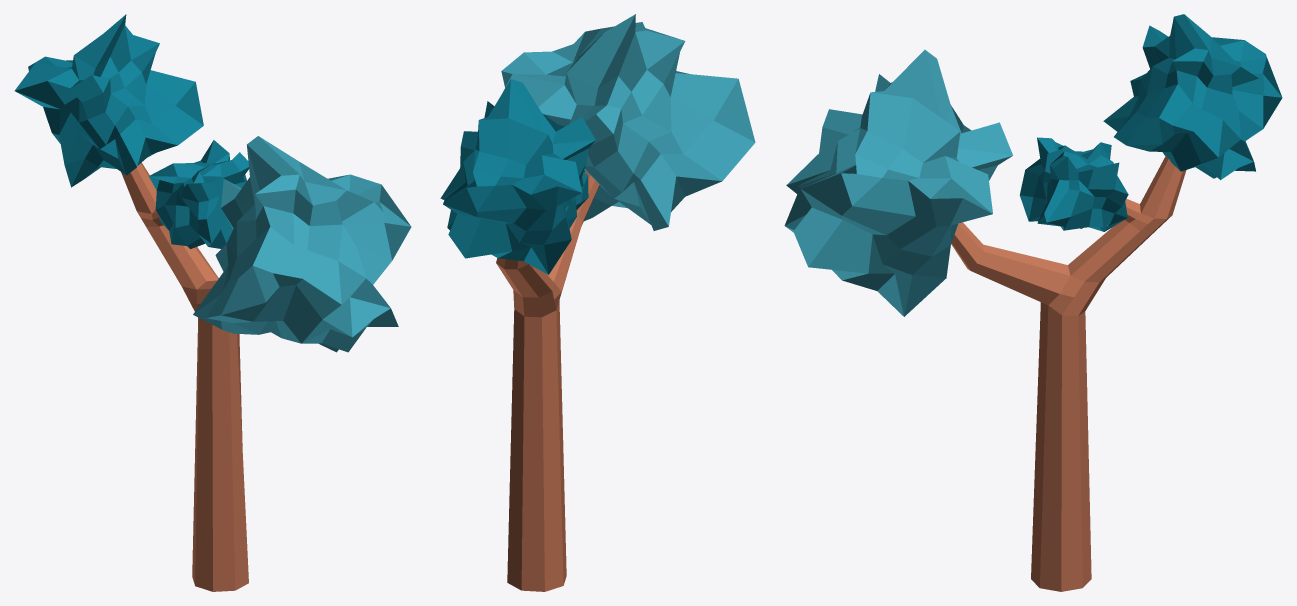
File: Tree_03_summer_blue_vc.fbx
3 views of the same model, side by side, from view 1: azimuth 30°, elevation 25°; view 2: azimuth 150°, elevation 25°; view 3: azimuth 270°, elevation 25° (orthographic). The views are drawn at different scales.
Parts seen in each view (by area): view 1: Tree_03_summer_blue_vc; view 2: Tree_03_summer_blue_vc; view 3: Tree_03_summer_blue_vc.
Boxes of the visible parts, x1,y1,x2,y2 form: Tree_03_summer_blue_vc: (14,14,411,591); Tree_03_summer_blue_vc: (440,14,755,591); Tree_03_summer_blue_vc: (784,14,1282,591).
Size of the model in its own units: 77.81 by 178 by 146.
